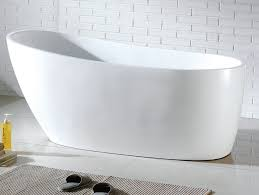bathub: (4, 21, 241, 170)
